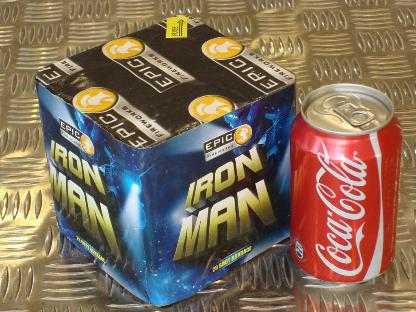Can: (284, 79, 408, 291)
